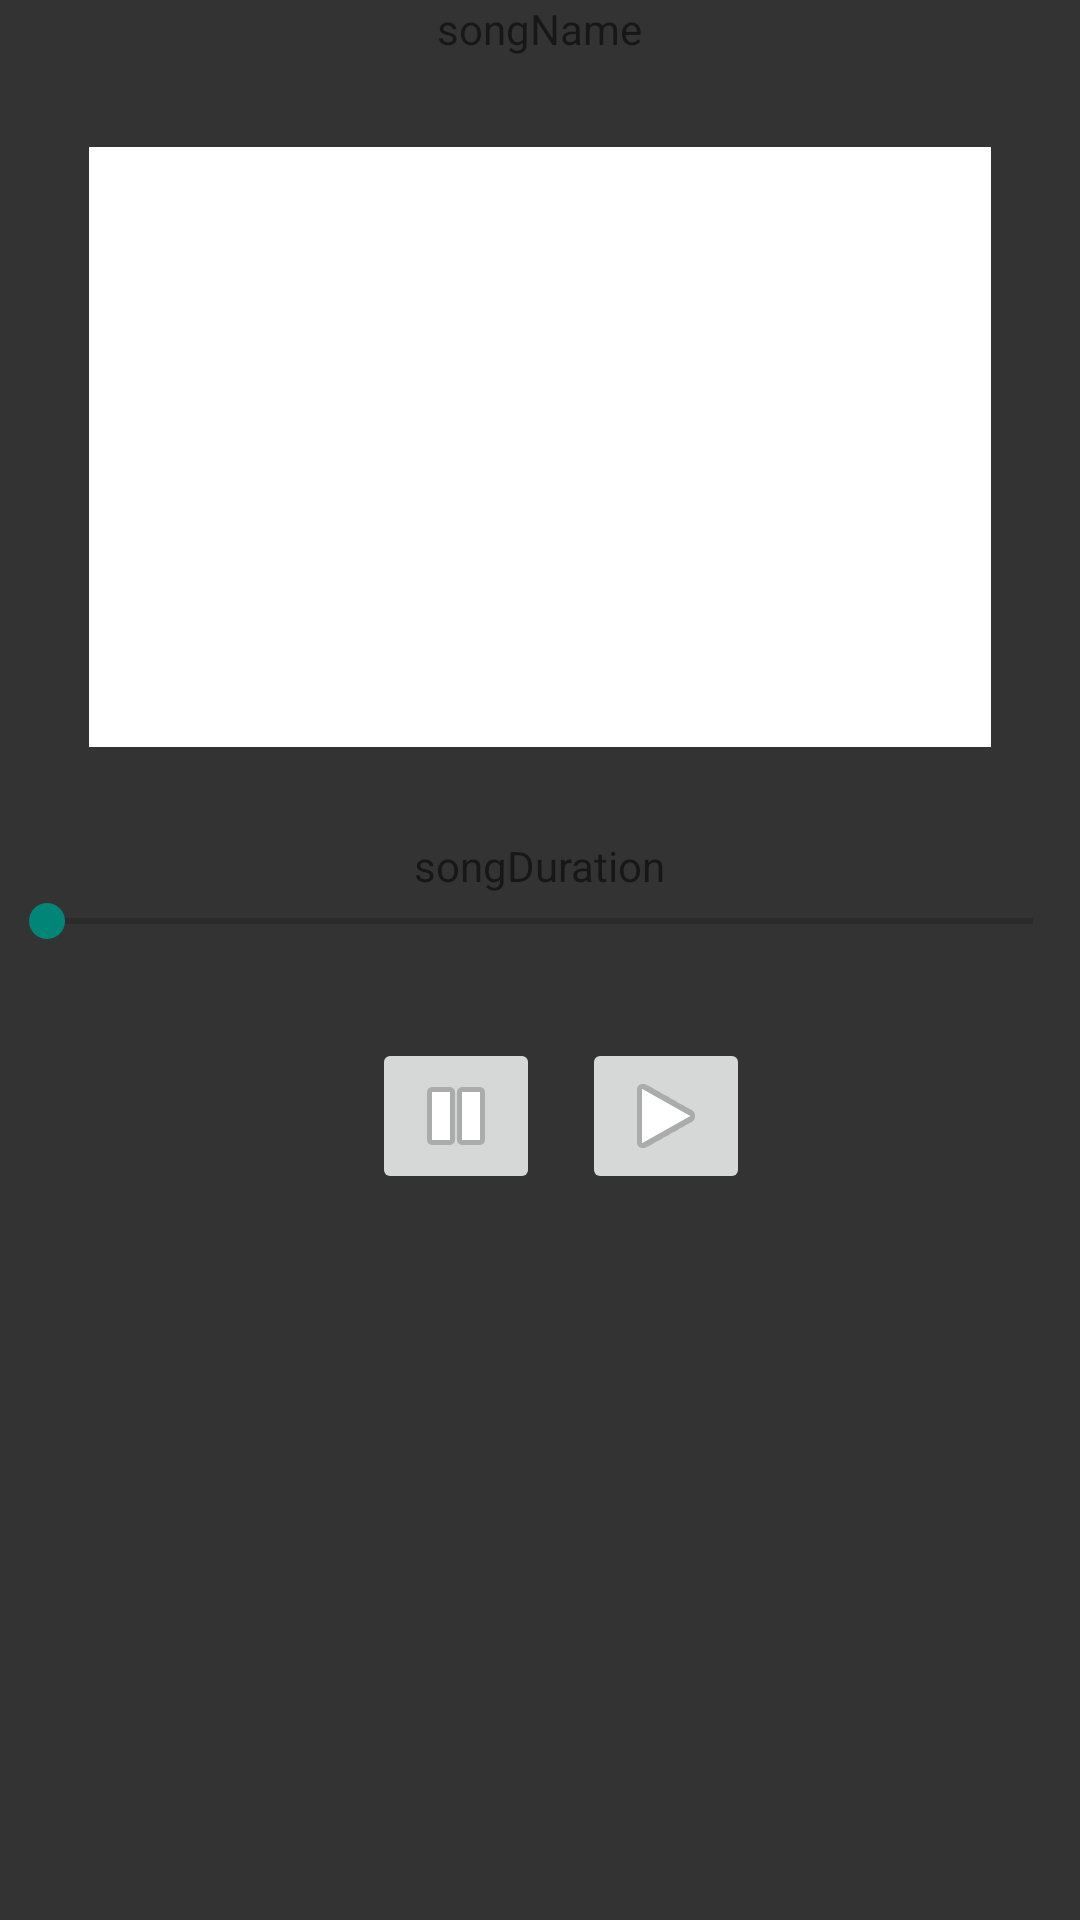

Locate icon controls on the screen. Image size 1080x1920, boxes as (x1, y1, x2, y2).
pause: (384, 1056, 528, 1176)
play: (594, 1056, 738, 1176)
